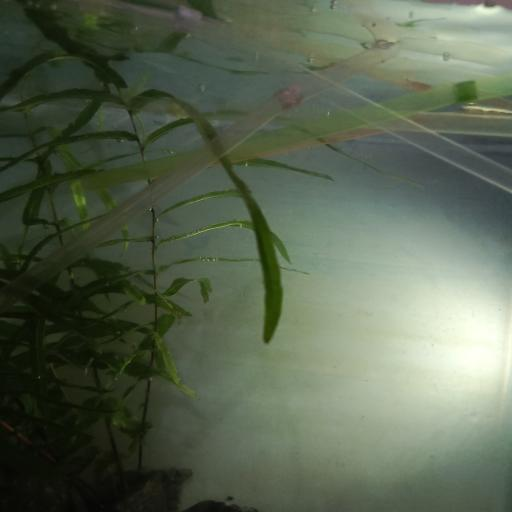plastic_straw: (0, 41, 399, 301), (67, 0, 512, 195), (69, 74, 512, 193), (120, 10, 512, 68)
